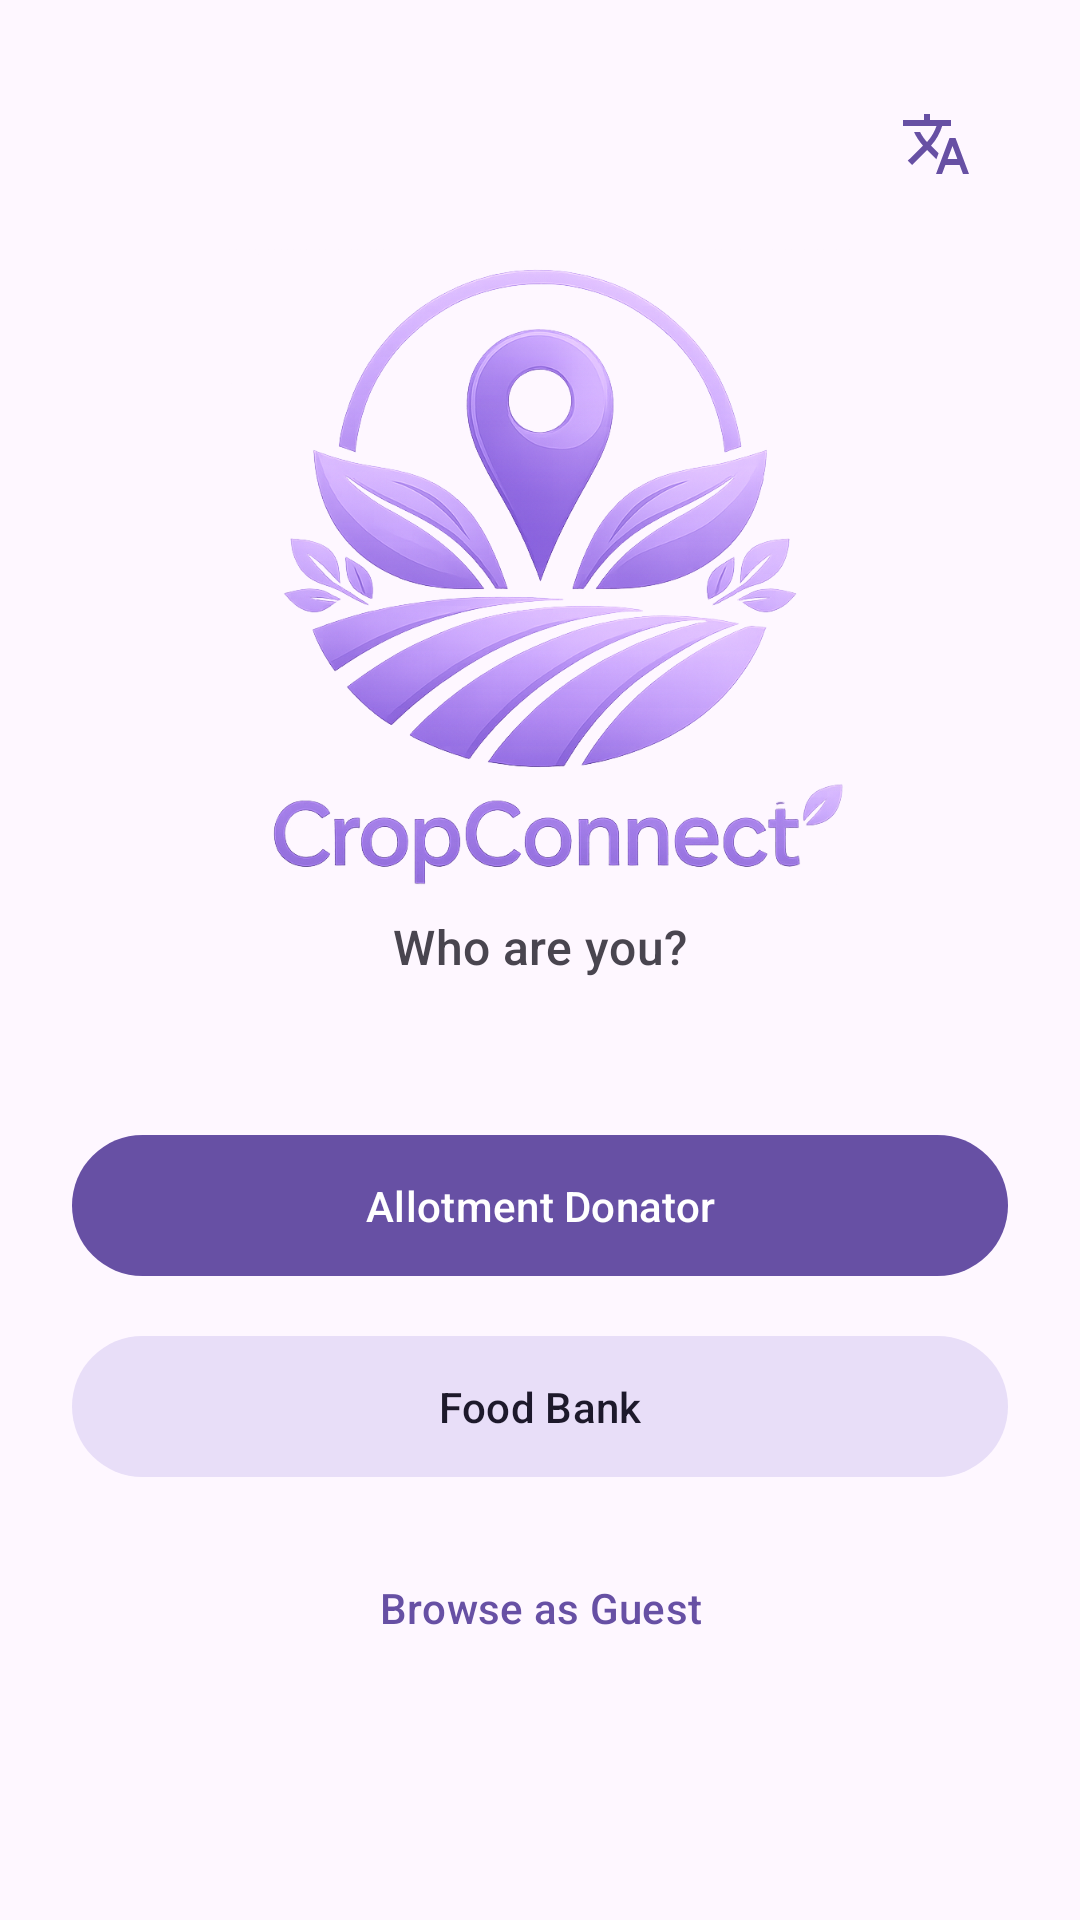

Icon bounding boxes for this 1080px×1920px phone screenshot, format {"left": x1, "top": y1, "right": x2, "bottom": y2}:
translate: {"left": 903, "top": 114, "right": 969, "bottom": 174}
